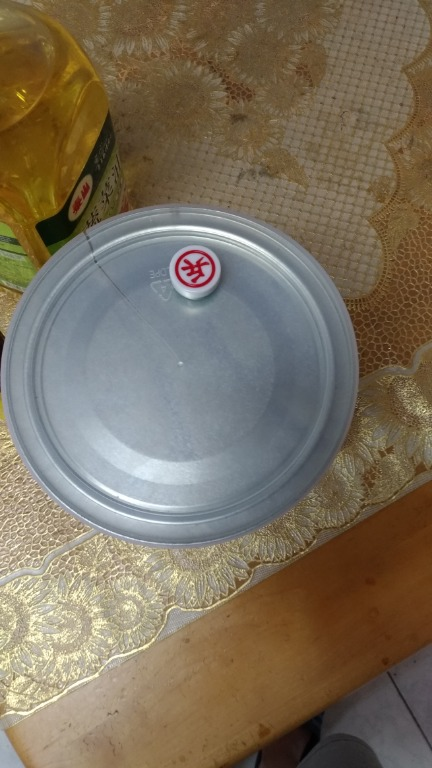r-pawn: (164, 242, 235, 303)
